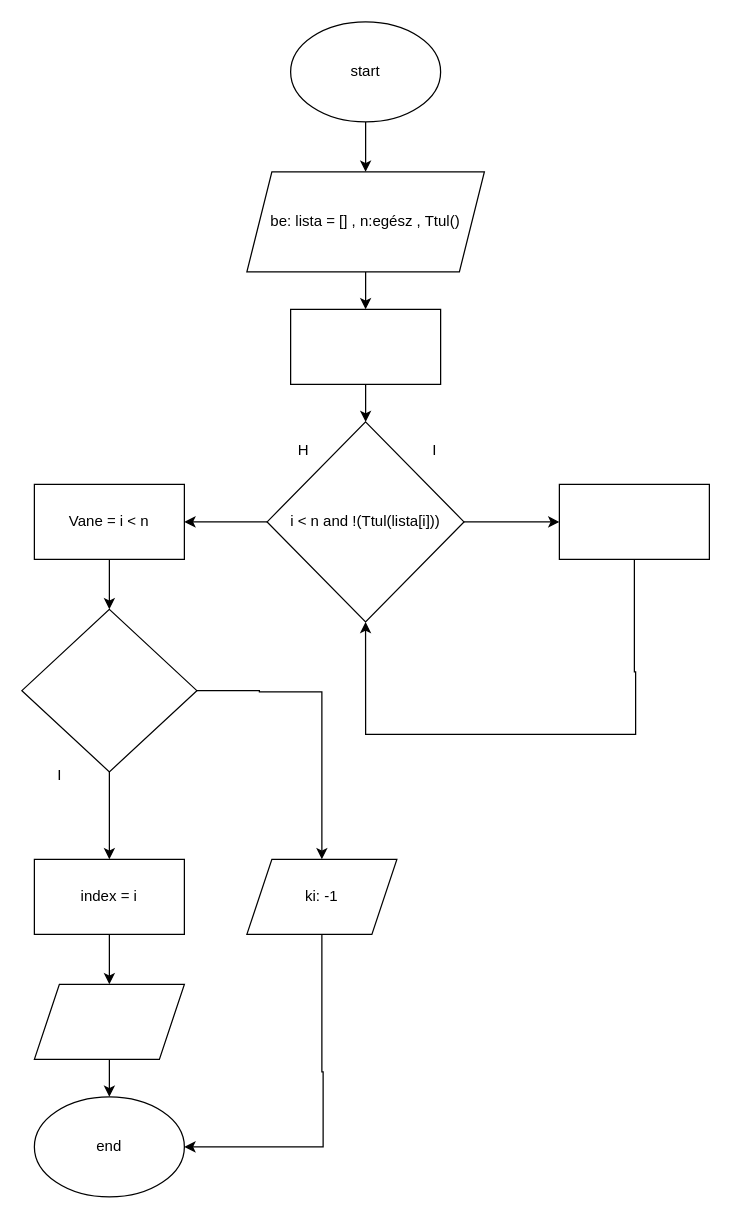
Some shapes in this 731 by 1219 pixel diagram are drawn without their labels. The centre of each missing label's shape, as x and y in pixels:
"i = 0 , Vane = false" belongs at [365,346].
"i++" belongs at [633,521].
"ki: index" belongs at [108,1021].
"Vane = True" belongs at [109,690].
